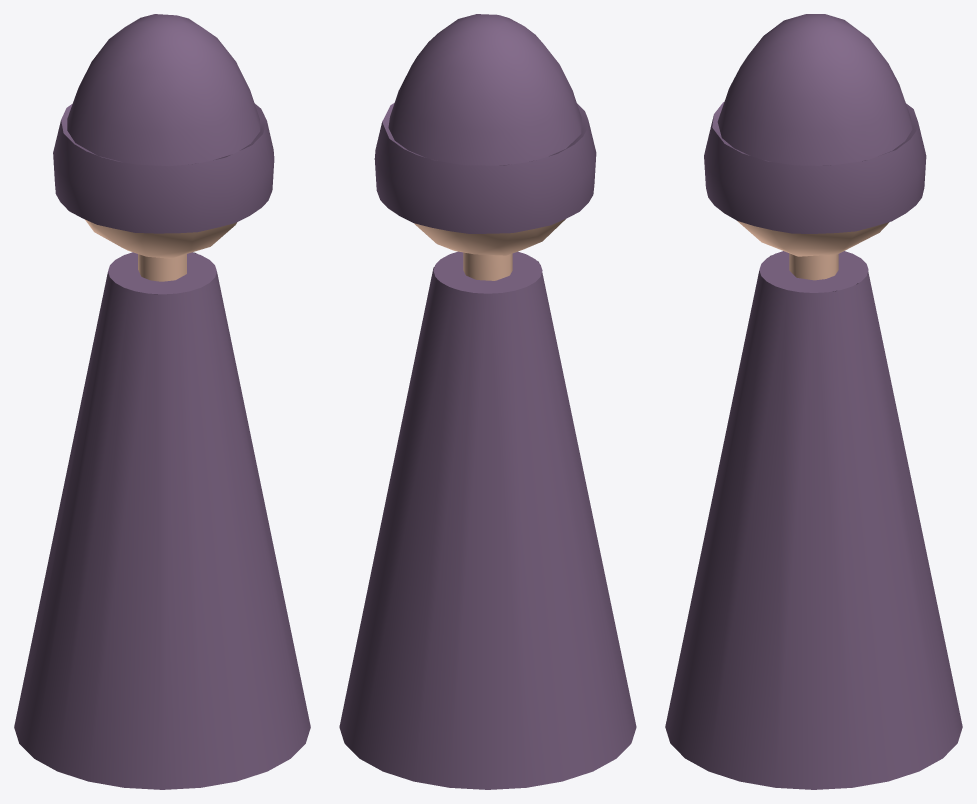
Rendered from per_nefor.fbx.
3 views of the same model, side by side, from view 1: azimuth 30°, elevation 25°; view 2: azimuth 150°, elevation 25°; view 3: azimuth 270°, elevation 25° (orthographic).
Visible parts, largest first — view 1: Cone.001; view 2: Cone.001; view 3: Cone.001.
Part boxes in pixels (<box>): Cone.001: <box>14,14,310,789</box>; Cone.001: <box>339,14,636,789</box>; Cone.001: <box>665,14,962,789</box>.
Size of the model in its own units: 200 by 526 by 200.
